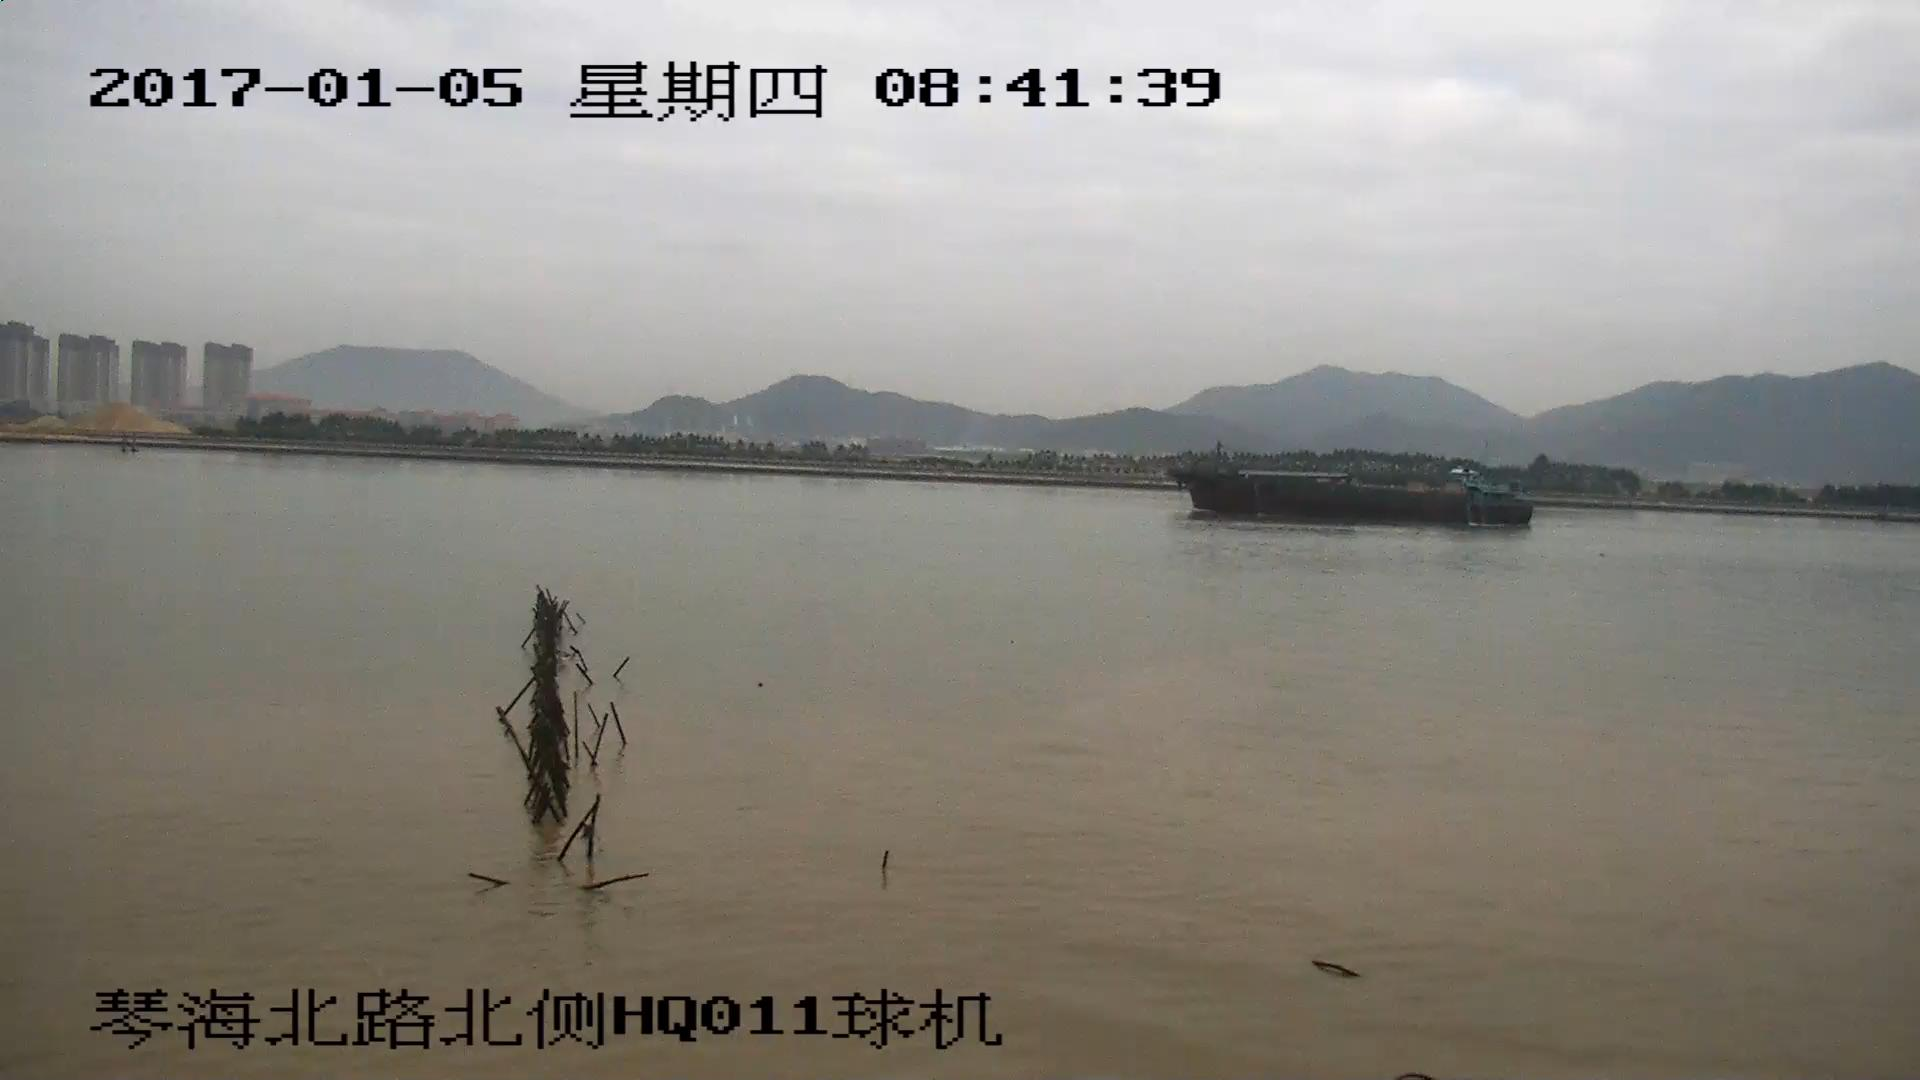bulk cargo carrier: (1175, 446, 1532, 526)
